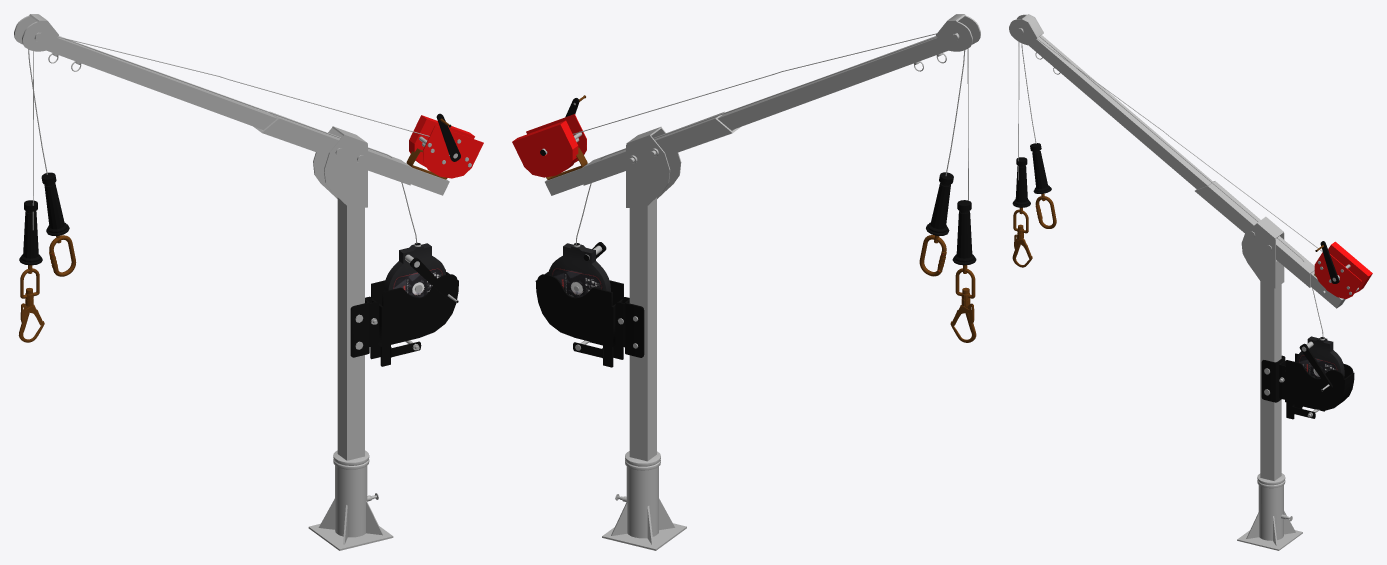
The model's file is SM_K_Pod.FBX.
3 renders of one model, left to right at view 1: azimuth 30°, elevation 25°; view 2: azimuth 150°, elevation 25°; view 3: azimuth 330°, elevation 25°, orthographic. The views are drawn at different scales.
Visible parts, largest first — view 1: SM_K_Pod, SM_K_Pod.ReTractable, SM_K_Pod_winch, SM_K_Pod_winch_hook, SM_K_Pod-RetractableHook; view 2: SM_K_Pod, SM_K_Pod.ReTractable, SM_K_Pod_winch, SM_K_Pod_winch_hook, SM_K_Pod-RetractableHook; view 3: SM_K_Pod, SM_K_Pod.ReTractable, SM_K_Pod_winch, SM_K_Pod_winch_hook, SM_K_Pod-RetractableHook.
Part boxes in pixels (left/top/right/bottom): SM_K_Pod: left=14, top=14, right=449, bottom=550; SM_K_Pod.ReTractable: left=28, top=36, right=458, bottom=366; SM_K_Pod_winch: left=32, top=32, right=483, bottom=230; SM_K_Pod_winch_hook: left=18, top=200, right=44, bottom=342; SM_K_Pod-RetractableHook: left=41, top=172, right=76, bottom=276; SM_K_Pod: left=545, top=14, right=980, bottom=550; SM_K_Pod.ReTractable: left=535, top=36, right=965, bottom=367; SM_K_Pod_winch: left=512, top=33, right=968, bottom=200; SM_K_Pod_winch_hook: left=950, top=200, right=976, bottom=342; SM_K_Pod-RetractableHook: left=919, top=172, right=953, bottom=276; SM_K_Pod: left=1009, top=14, right=1345, bottom=550; SM_K_Pod.ReTractable: left=1021, top=36, right=1354, bottom=419; SM_K_Pod_winch: left=1018, top=38, right=1372, bottom=299; SM_K_Pod_winch_hook: left=1012, top=157, right=1032, bottom=267; SM_K_Pod-RetractableHook: left=1030, top=143, right=1056, bottom=228.
Bounding box in the file's own units: 1489 × 1842 × 199.
